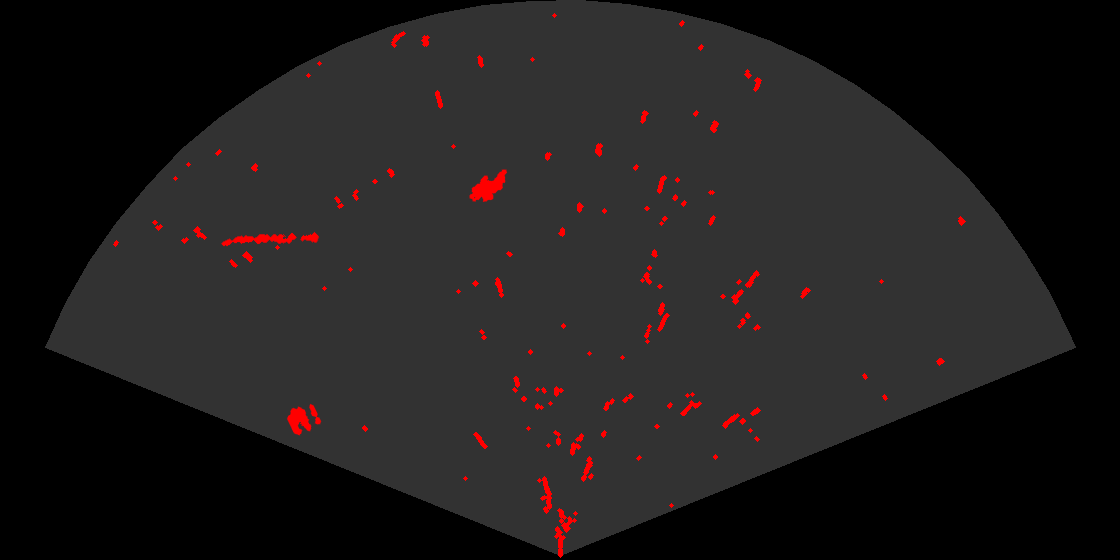AUV: (468, 168, 509, 204)
ball: (285, 402, 323, 437)
chain: (220, 230, 320, 248)
